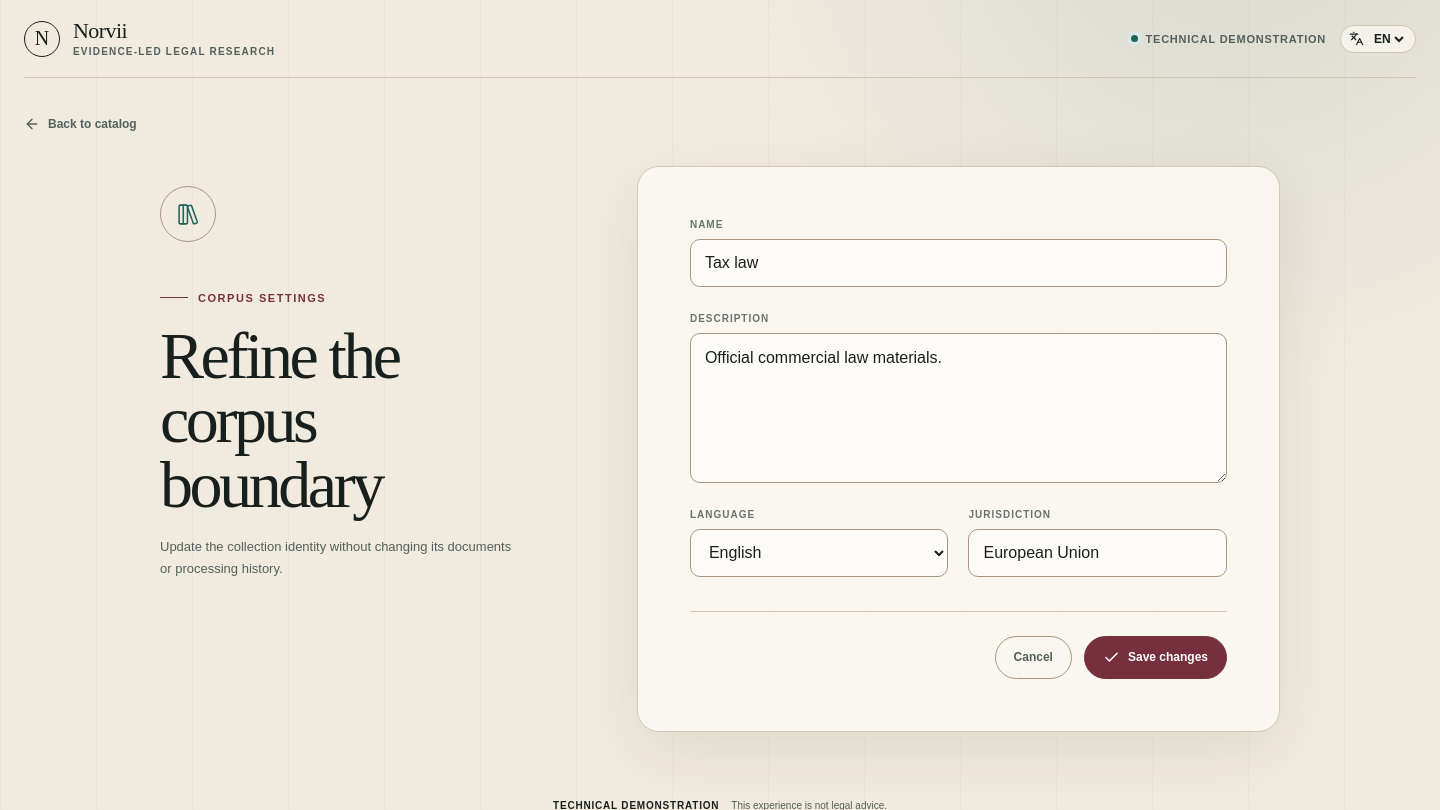
Test case: corpus form page › preserves entered values when an edit conflicts with a newer version
Replace the text in the field labelled "Name" with "Updated tax law" at {"x": 958, "y": 263}, box top-left (690, 239), bottom-right (1227, 287)
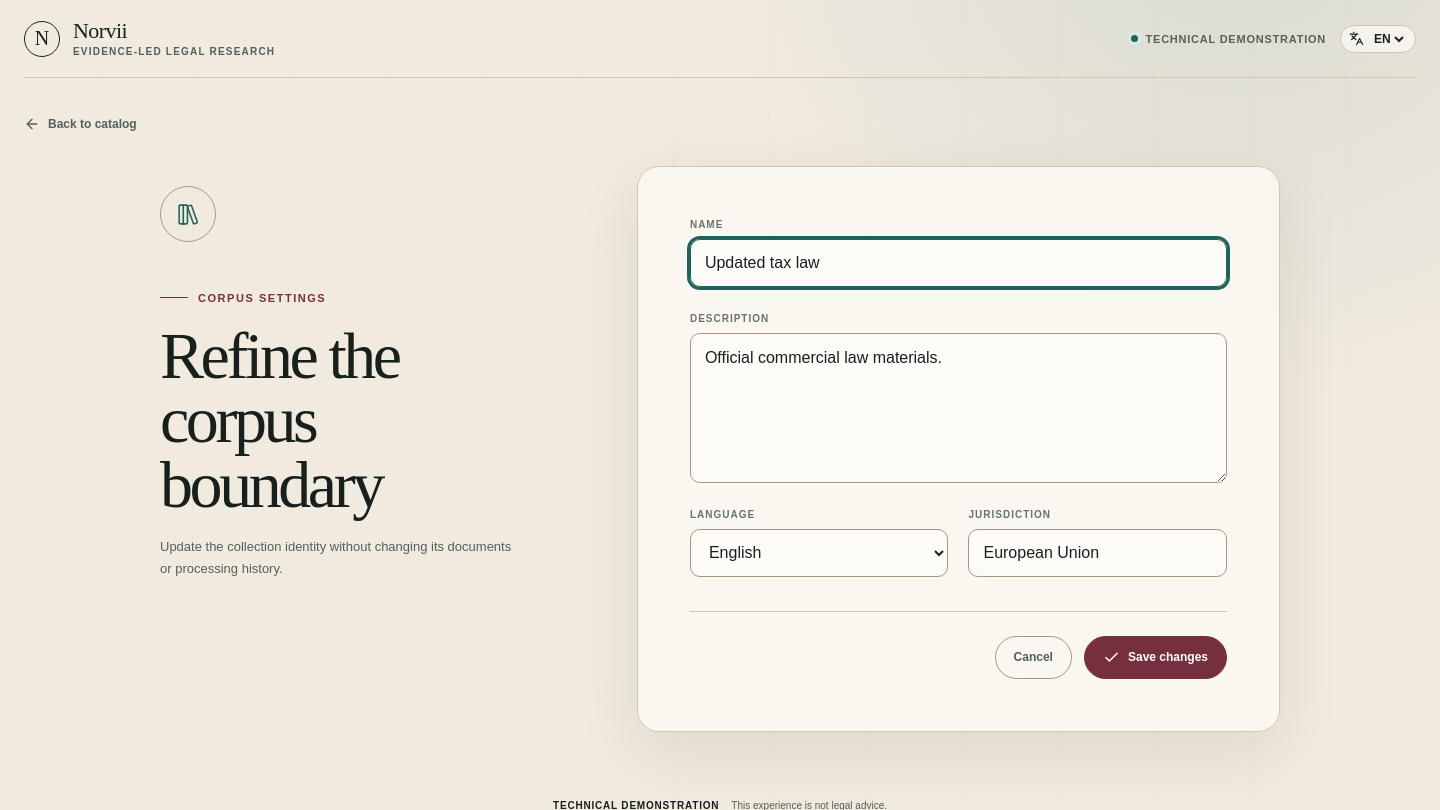
Click the button "Save changes" at {"x": 1156, "y": 658}, box top-left (1084, 636), bottom-right (1227, 679)
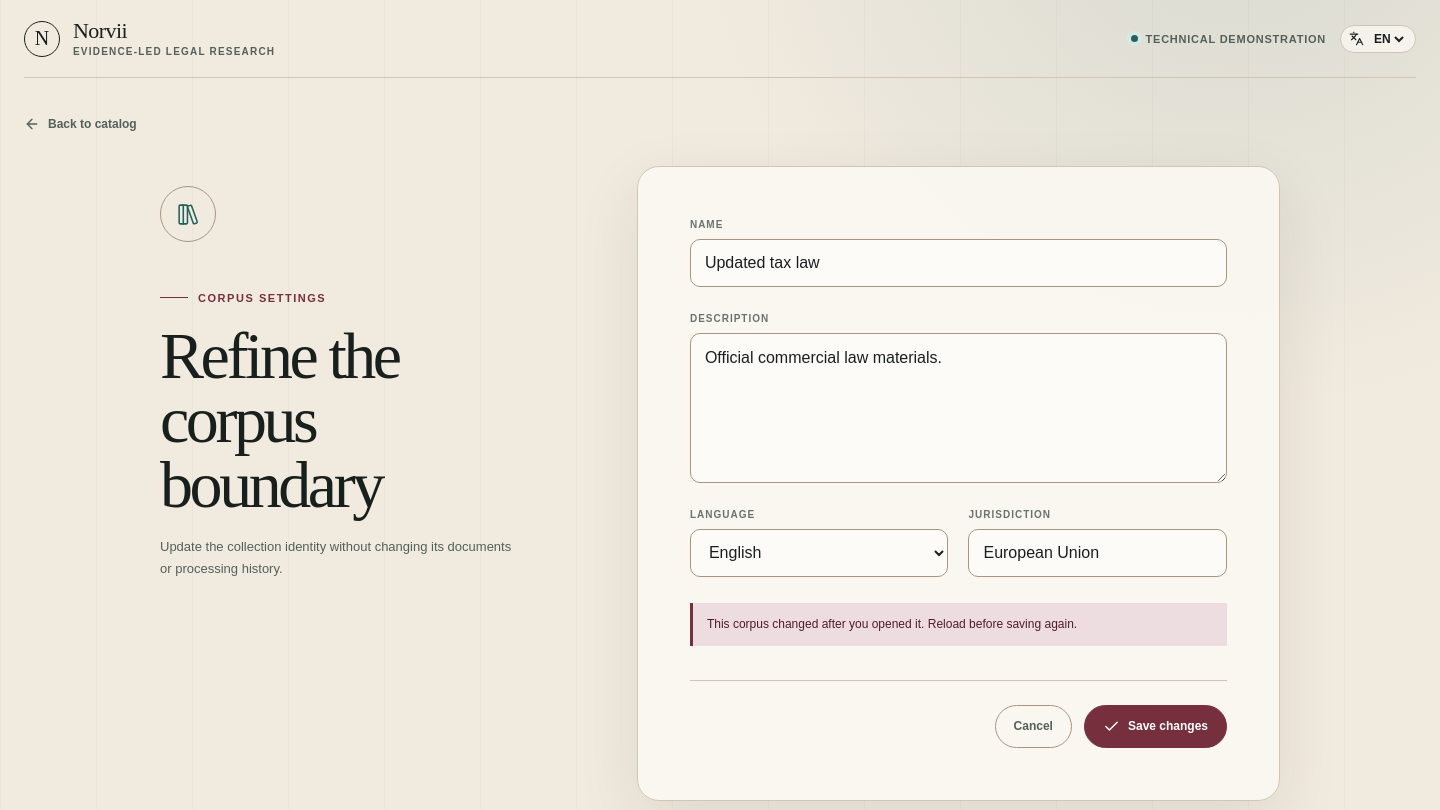
Check: the message reads "This corpus changed after you opened it. Reload before saving again.", box top-left (707, 617), bottom-right (1077, 631)
